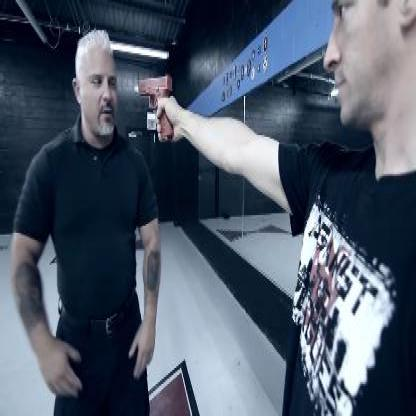pistol: (137, 73, 173, 137)
